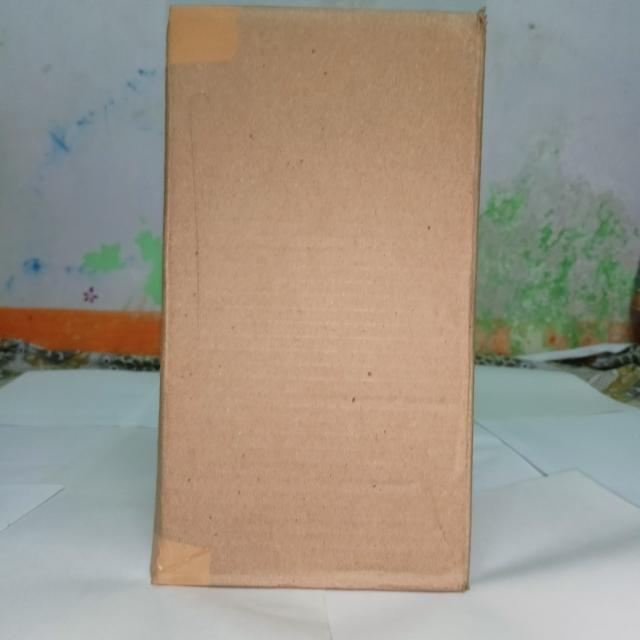box: (150, 8, 489, 597)
